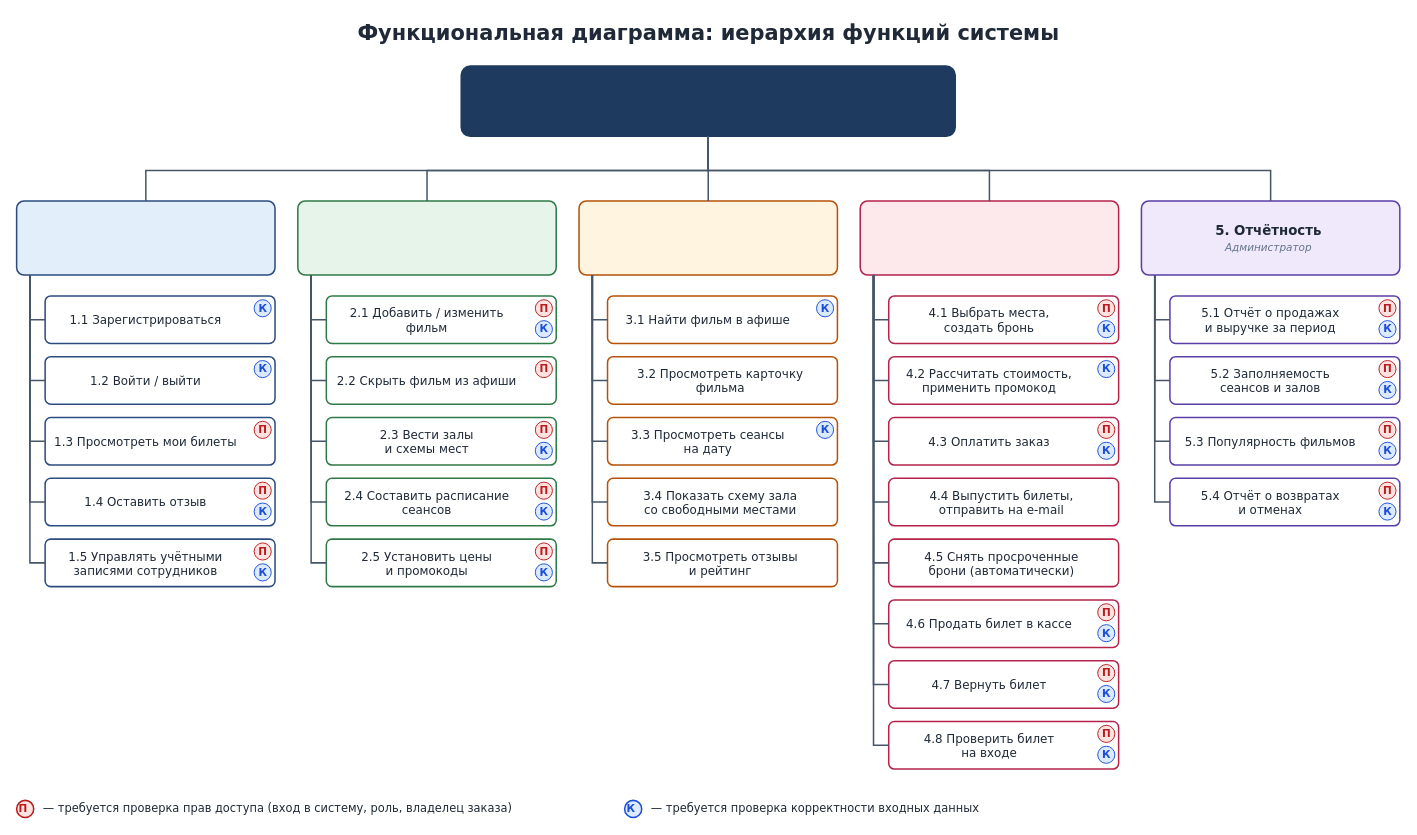
Some shapes in this 1417 by 835 pixel diagram are drawn without their labels. Each missing label, with the centre of its shape:
"1. Пользователи и личный кабинет Зритель, Администратор" belongs at [145,237].
"2. Работа с данными: каталог и расписание Администратор" belongs at [427,237].
"3. Поиск и просмотр Зритель, Кассир" belongs at [708,237].
"4. Оформление операций Зритель, Кассир, Платёжная система" belongs at [989,237].
"«Киноточка» — система продажи билетов в кинотеатр" belongs at [708,101].
